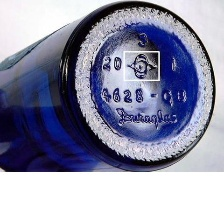bottle: (0, 0, 223, 172)
